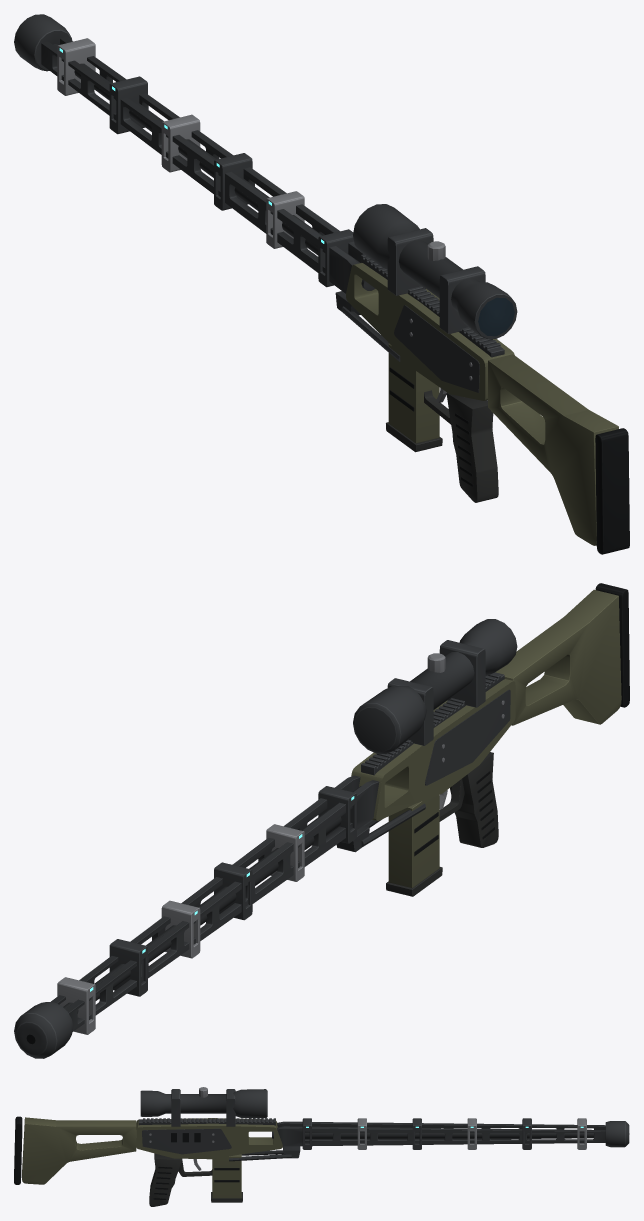
The model's file is rail.glb.
3 views of the same model, one above another, from view 1: azimuth 30°, elevation 25°; view 2: azimuth 150°, elevation 25°; view 3: azimuth 270°, elevation 25° (orthographic). The views are drawn at different scales.
Parts seen in each view (by area): view 1: Body, ThirdPersonOnly, IronSight, Cell; view 2: Body, ThirdPersonOnly, IronSight, Cell; view 3: Body, ThirdPersonOnly, IronSight, Cell.
Part boxes in pixels (x1,y1,x2,y2): Body: (14, 14, 514, 502); ThirdPersonOnly: (488, 354, 629, 554); IronSight: (353, 204, 517, 339); Cell: (386, 343, 442, 452); Body: (14, 672, 515, 1058); ThirdPersonOnly: (495, 583, 629, 725); IronSight: (353, 619, 517, 754); Cell: (386, 795, 442, 896); Body: (136, 1118, 629, 1206); ThirdPersonOnly: (14, 1116, 136, 1184); IronSight: (140, 1087, 267, 1126); Cell: (211, 1154, 242, 1202).
Size of the model in its own units: 0.075 by 0.3253 by 1.57.
